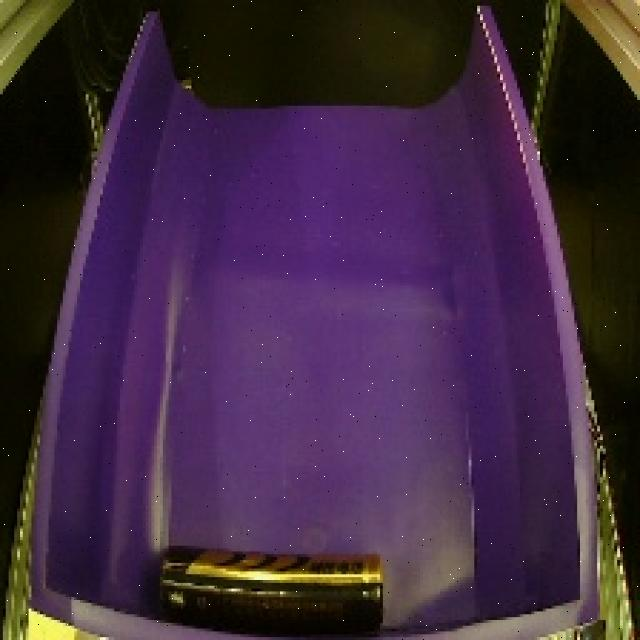battery: (135, 532, 396, 640)
